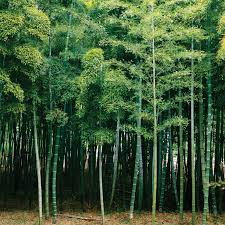bamboo: (17, 7, 211, 201)
